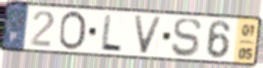2: (29, 9, 56, 49)
6: (206, 19, 234, 61)
L: (98, 13, 124, 54)
O: (57, 9, 88, 52)
S: (170, 17, 204, 58)
V: (131, 14, 165, 56)
